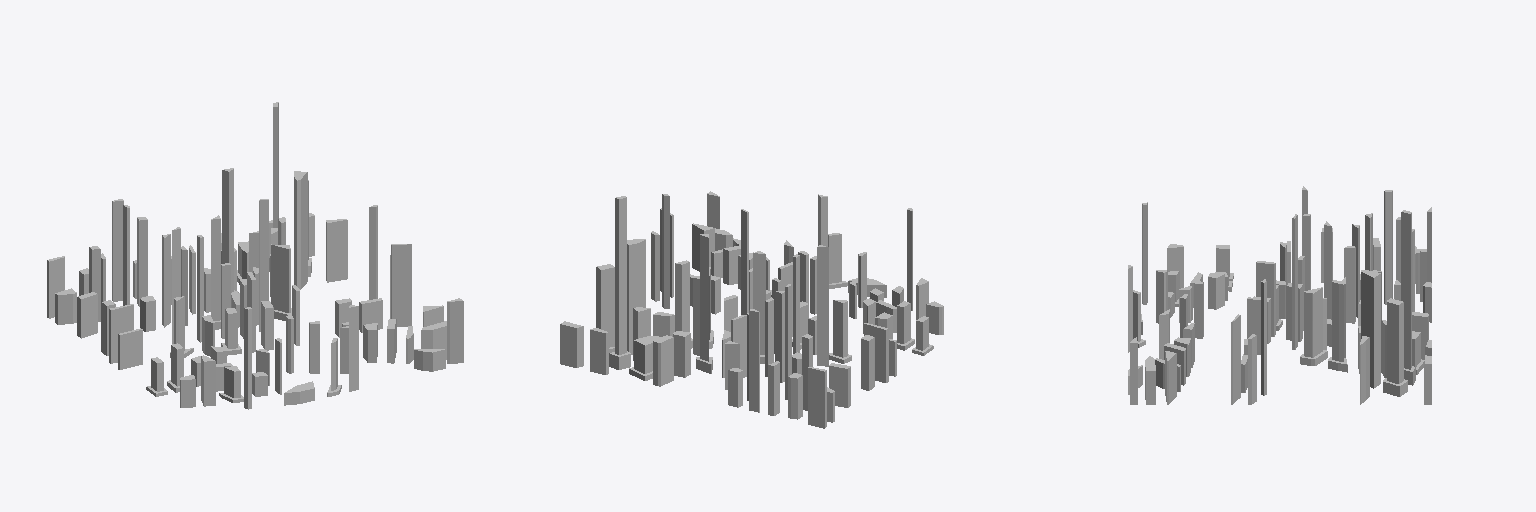
File: buildings_00069.obj
3 views of the same model, side by side, from view 1: azimuth 30°, elevation 25°; view 2: azimuth 150°, elevation 25°; view 3: azimuth 270°, elevation 25° (orthographic).
Size of the model in its own units: 1468 by 894 by 1460.